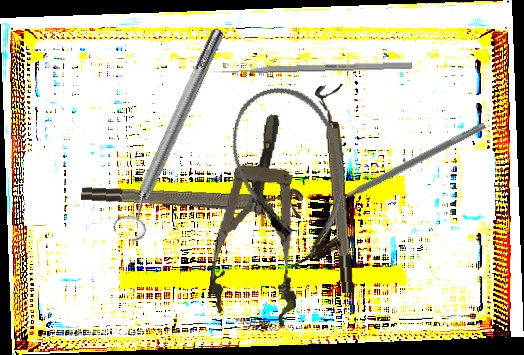Cannula: (217, 73, 369, 276)
Fixation Ring: (107, 22, 238, 246), (80, 173, 304, 220), (314, 84, 358, 294)
Pusher: (209, 61, 413, 76)
Spatula Surgical: (322, 114, 487, 212)
Speculum: (205, 109, 319, 329)
